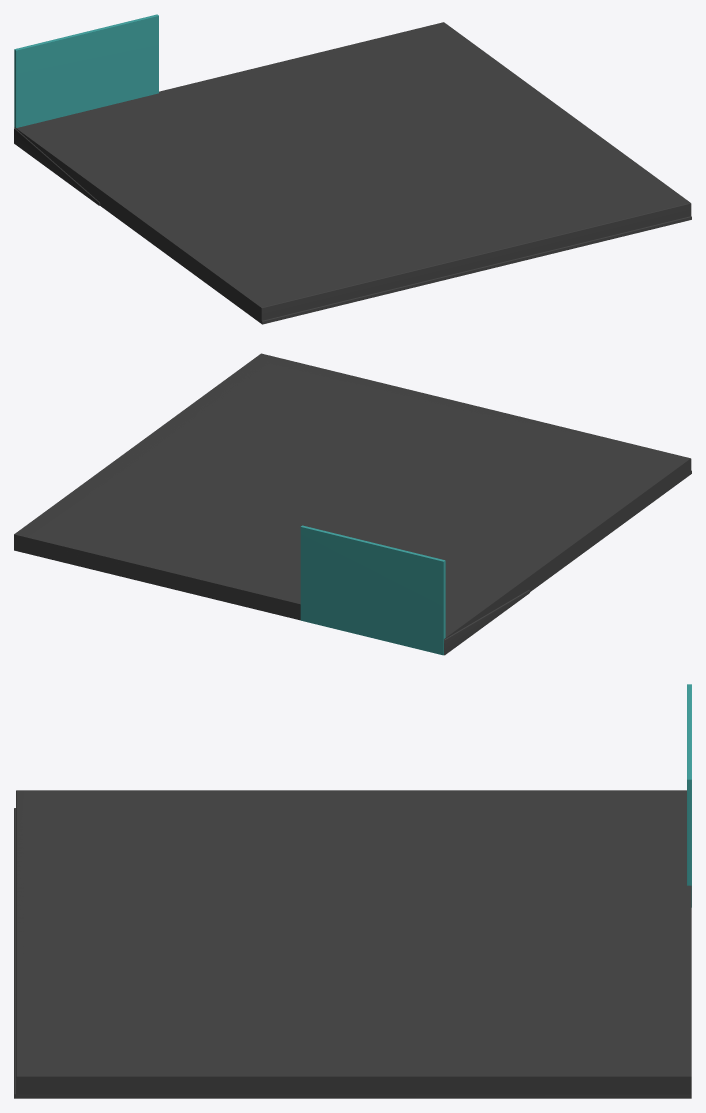
The model's file is podium_modul.fbx.
The picture shows the model from 3 angles, top to bottom: view 1: azimuth 30°, elevation 25°; view 2: azimuth 150°, elevation 25°; view 3: azimuth 270°, elevation 25°; orthographic projection. The views are drawn at different scales.
Visible parts, largest first — view 1: podium_corner_1, podium_rectangular_1, glass_podium, podium_ramp; view 2: podium_corner_1, podium_rectangular_1, glass_podium, podium_ramp; view 3: podium_corner_1, podium_rectangular_1, glass_podium.
Boxes of the visible parts, left/top/right/bottom form: podium_corner_1: left=17, top=22, right=690, bottom=324; podium_rectangular_1: left=14, top=22, right=691, bottom=324; glass_podium: left=14, top=14, right=158, bottom=127; podium_ramp: left=14, top=128, right=100, bottom=205; podium_corner_1: left=15, top=354, right=690, bottom=637; podium_rectangular_1: left=14, top=353, right=691, bottom=639; glass_podium: left=300, top=525, right=445, bottom=655; podium_ramp: left=30, top=541, right=529, bottom=655; podium_corner_1: left=14, top=790, right=691, bottom=1098; podium_rectangular_1: left=14, top=790, right=691, bottom=1098; glass_podium: left=687, top=684, right=691, bottom=907.
Bounding box in the file's own units: 336 × 70 × 335.
